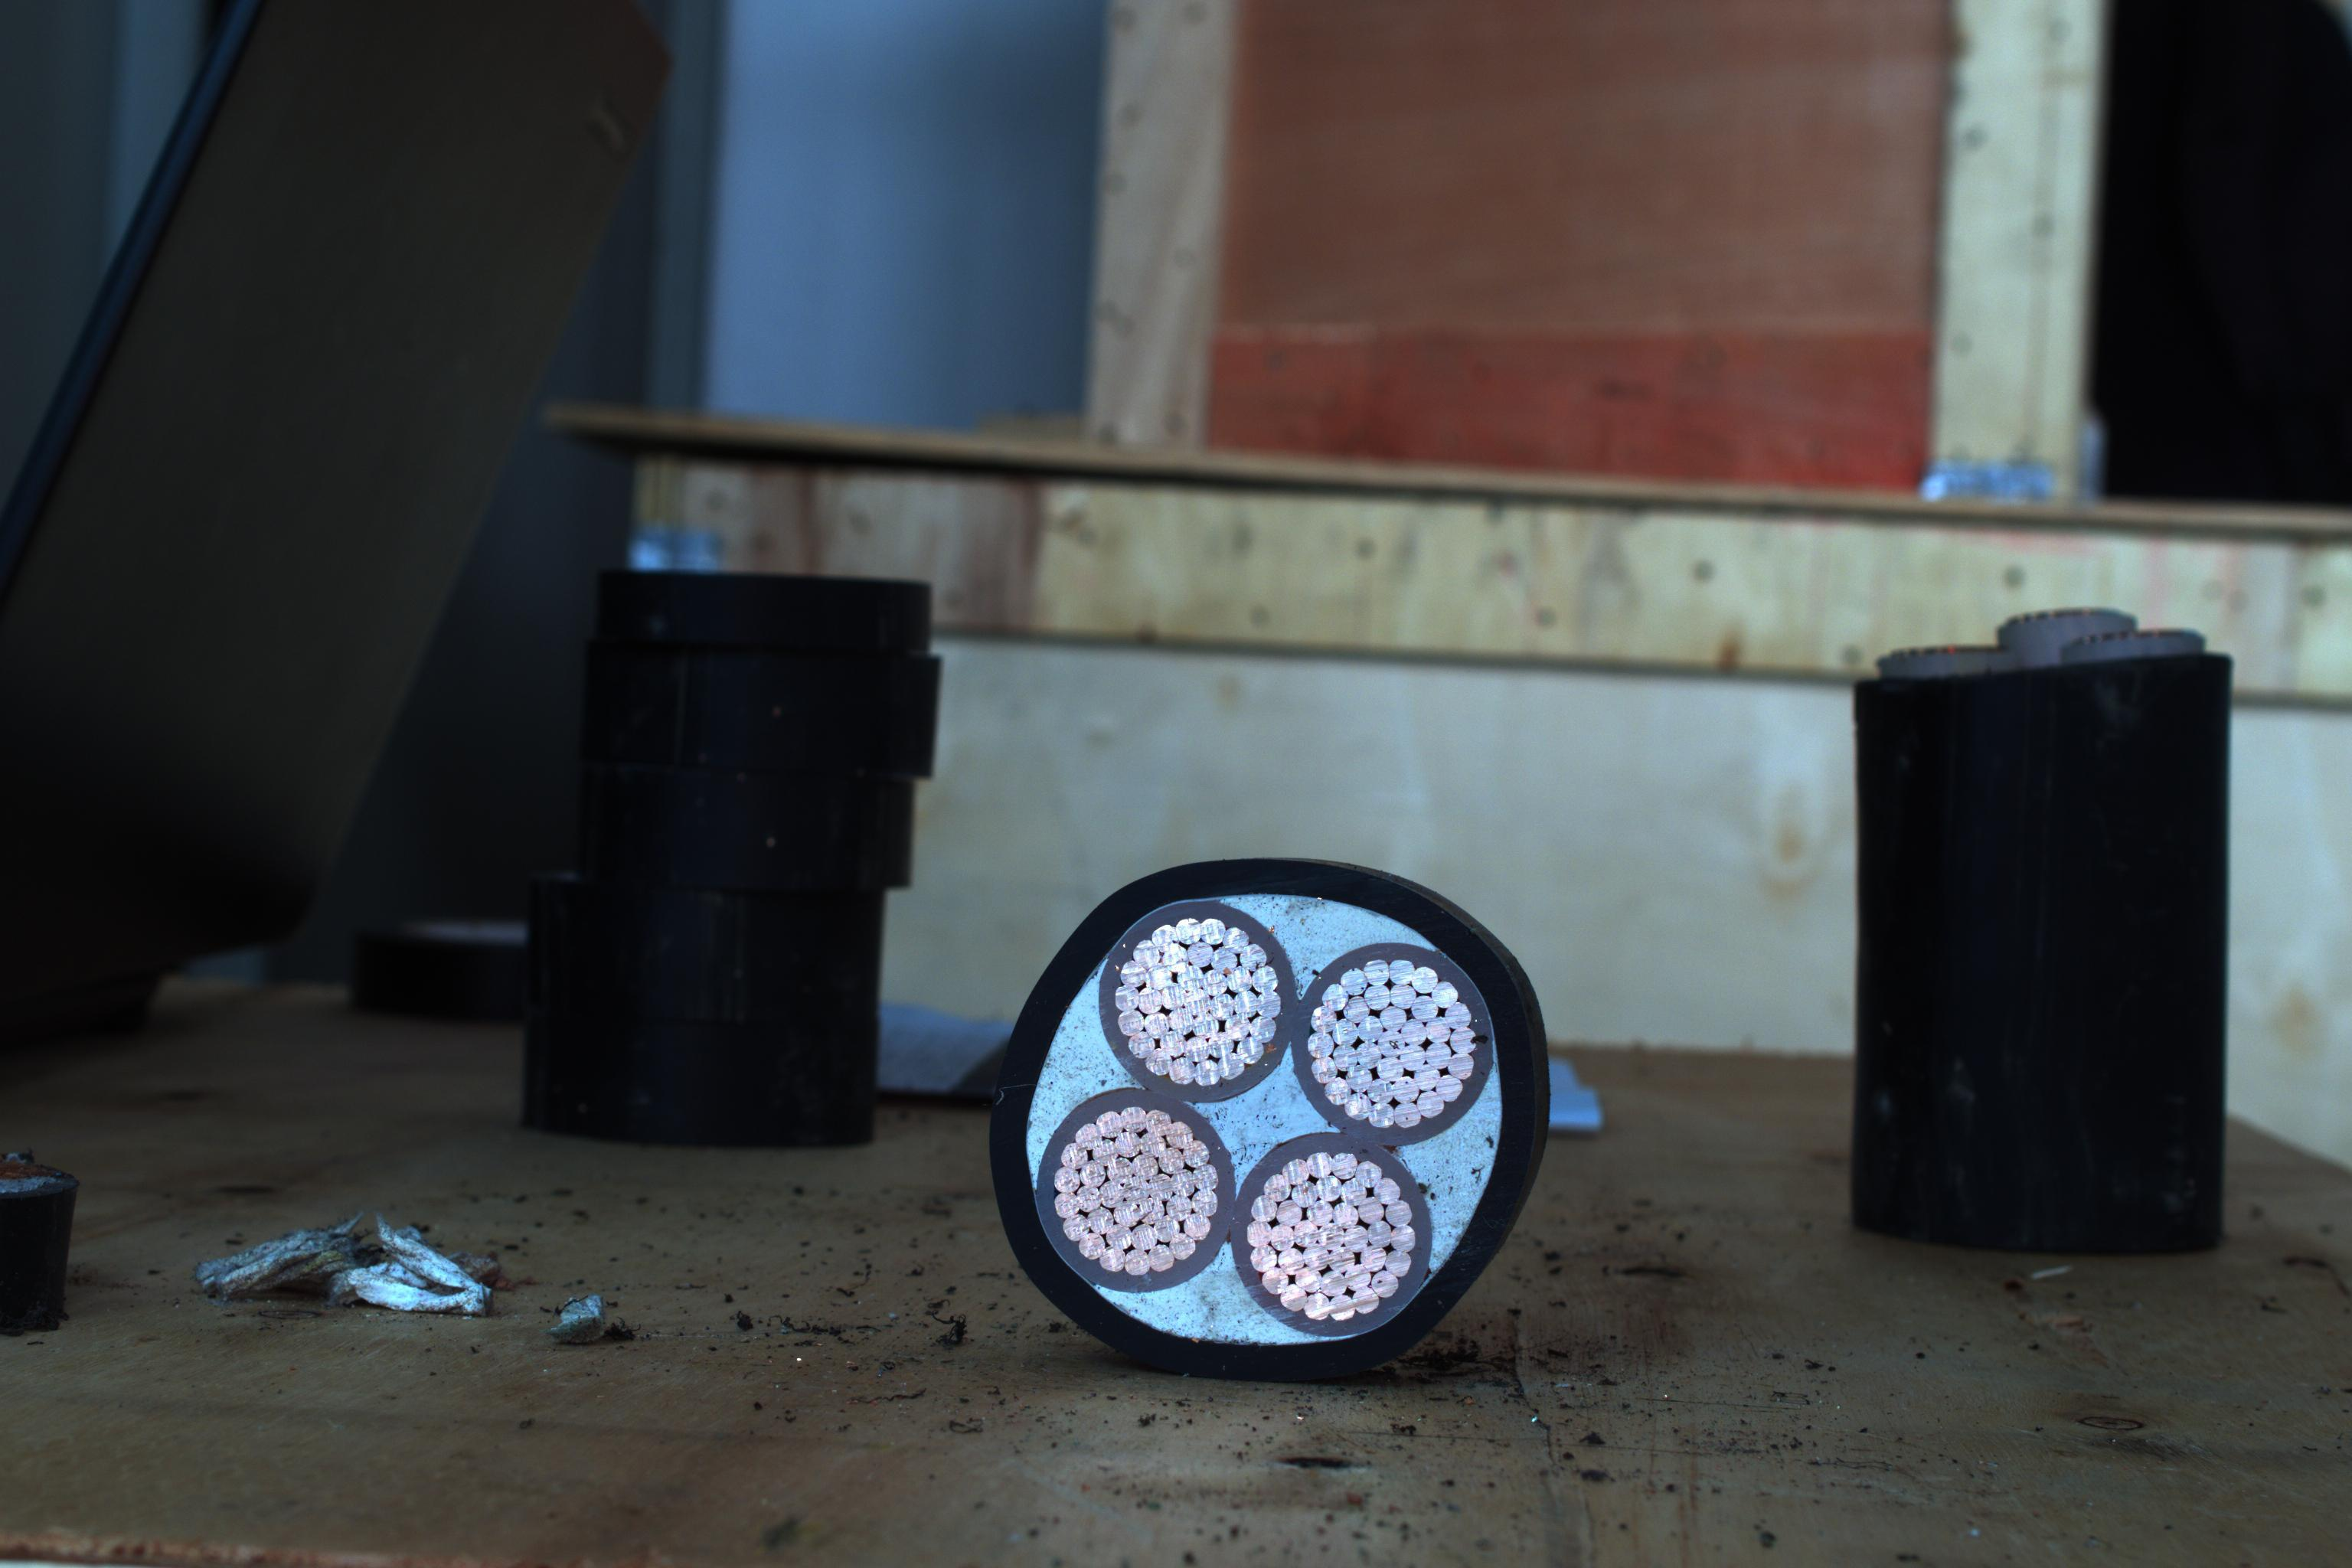YJV_0.6_1kV_4x240: (973, 859, 1501, 1367)
